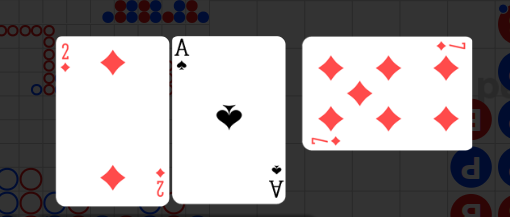2D: (59, 42, 72, 74)
7D: (435, 40, 467, 53)
AS: (267, 162, 284, 199)
